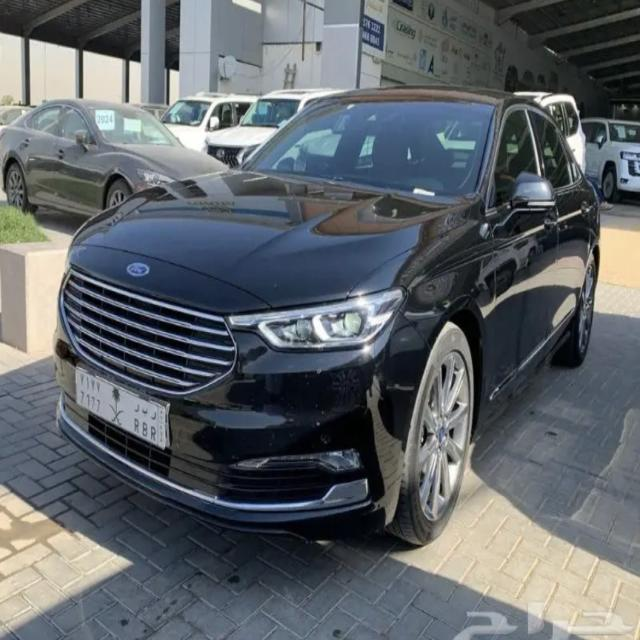license_plate: (76, 366, 166, 448)
